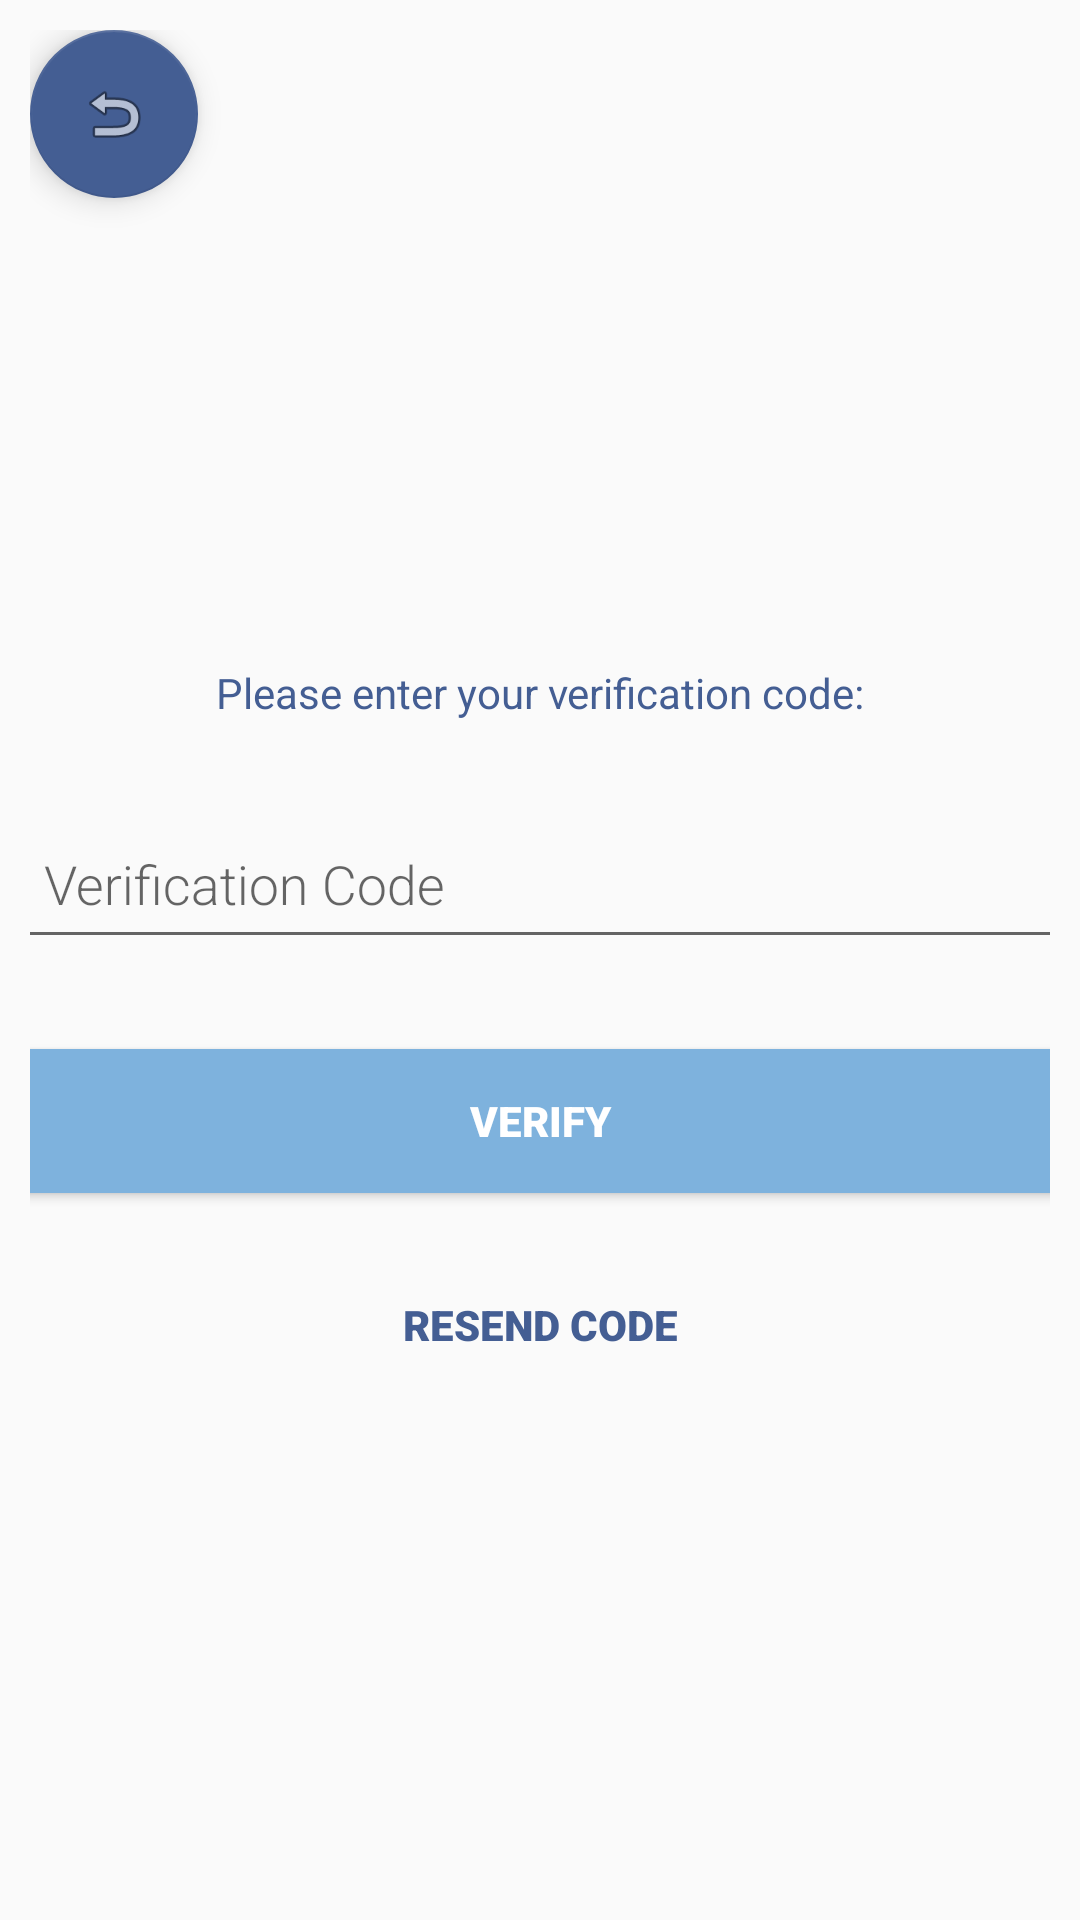

Icons on this 1080 × 1920 Android screen, each with the point to tap as (x=x, y=y):
revert: (x=114, y=114)
